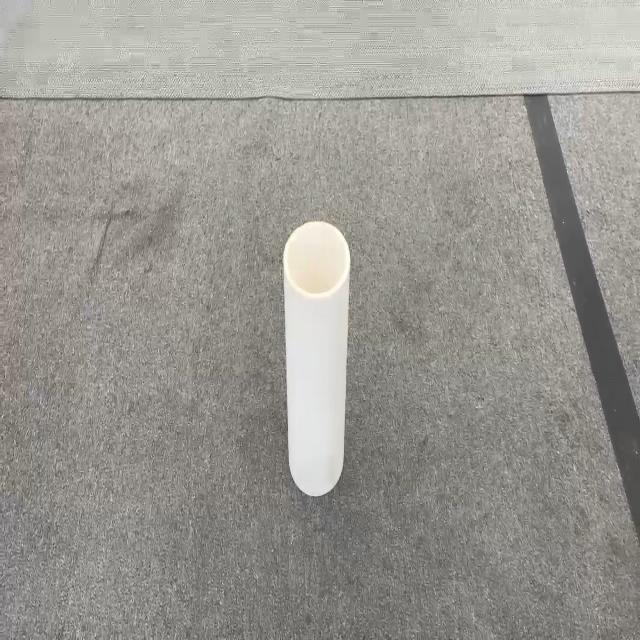coral: (282, 219, 351, 497)
